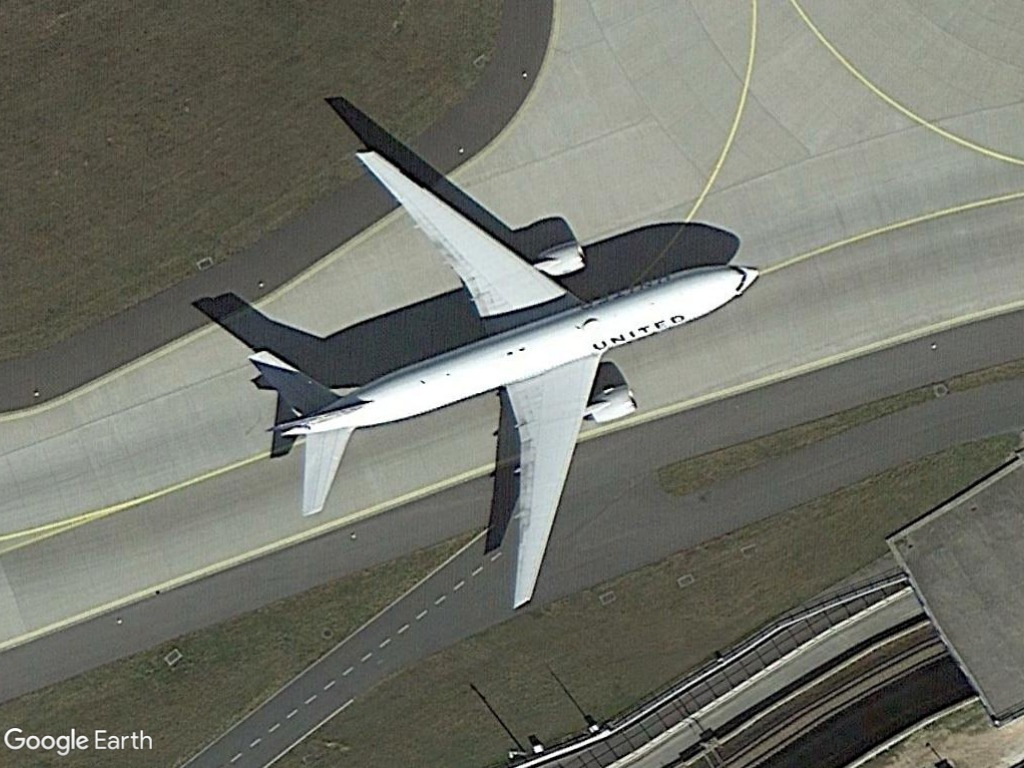airliner: (239, 145, 764, 616)
